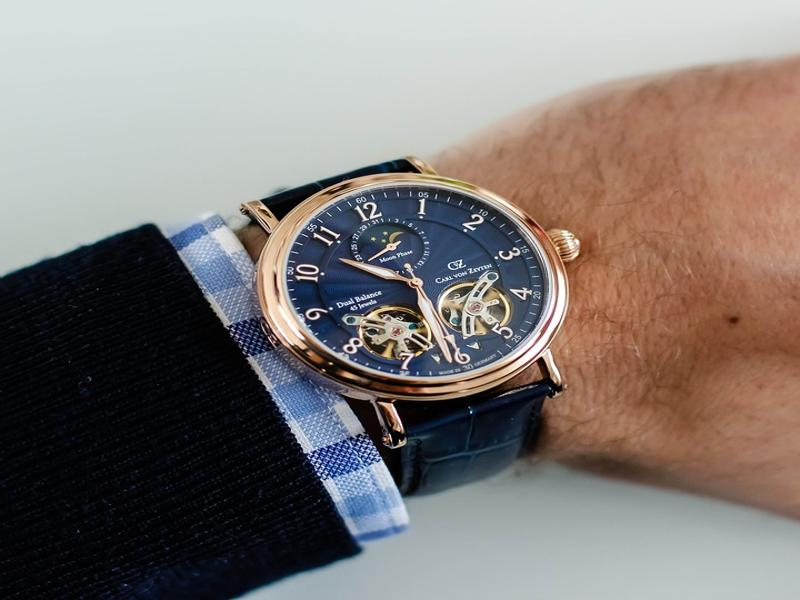watch: (239, 153, 579, 498)
